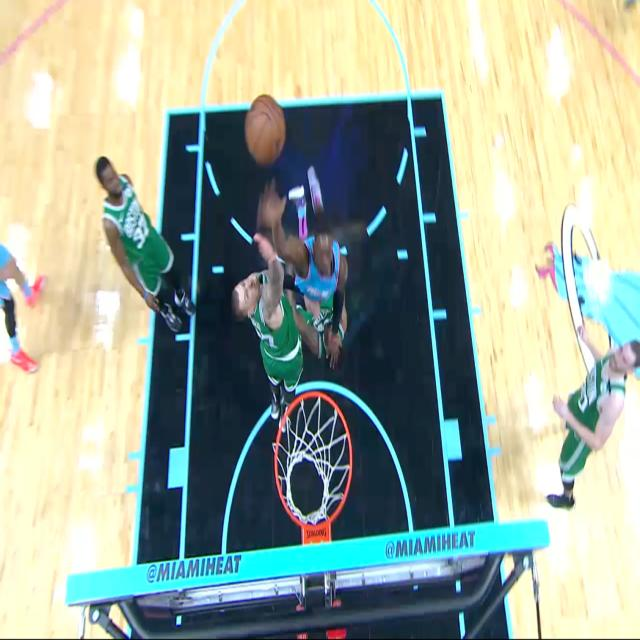Foul: (302, 222, 350, 383)
